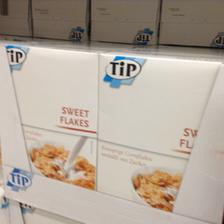Cerealien: (97, 48, 223, 213), (3, 41, 102, 186)
